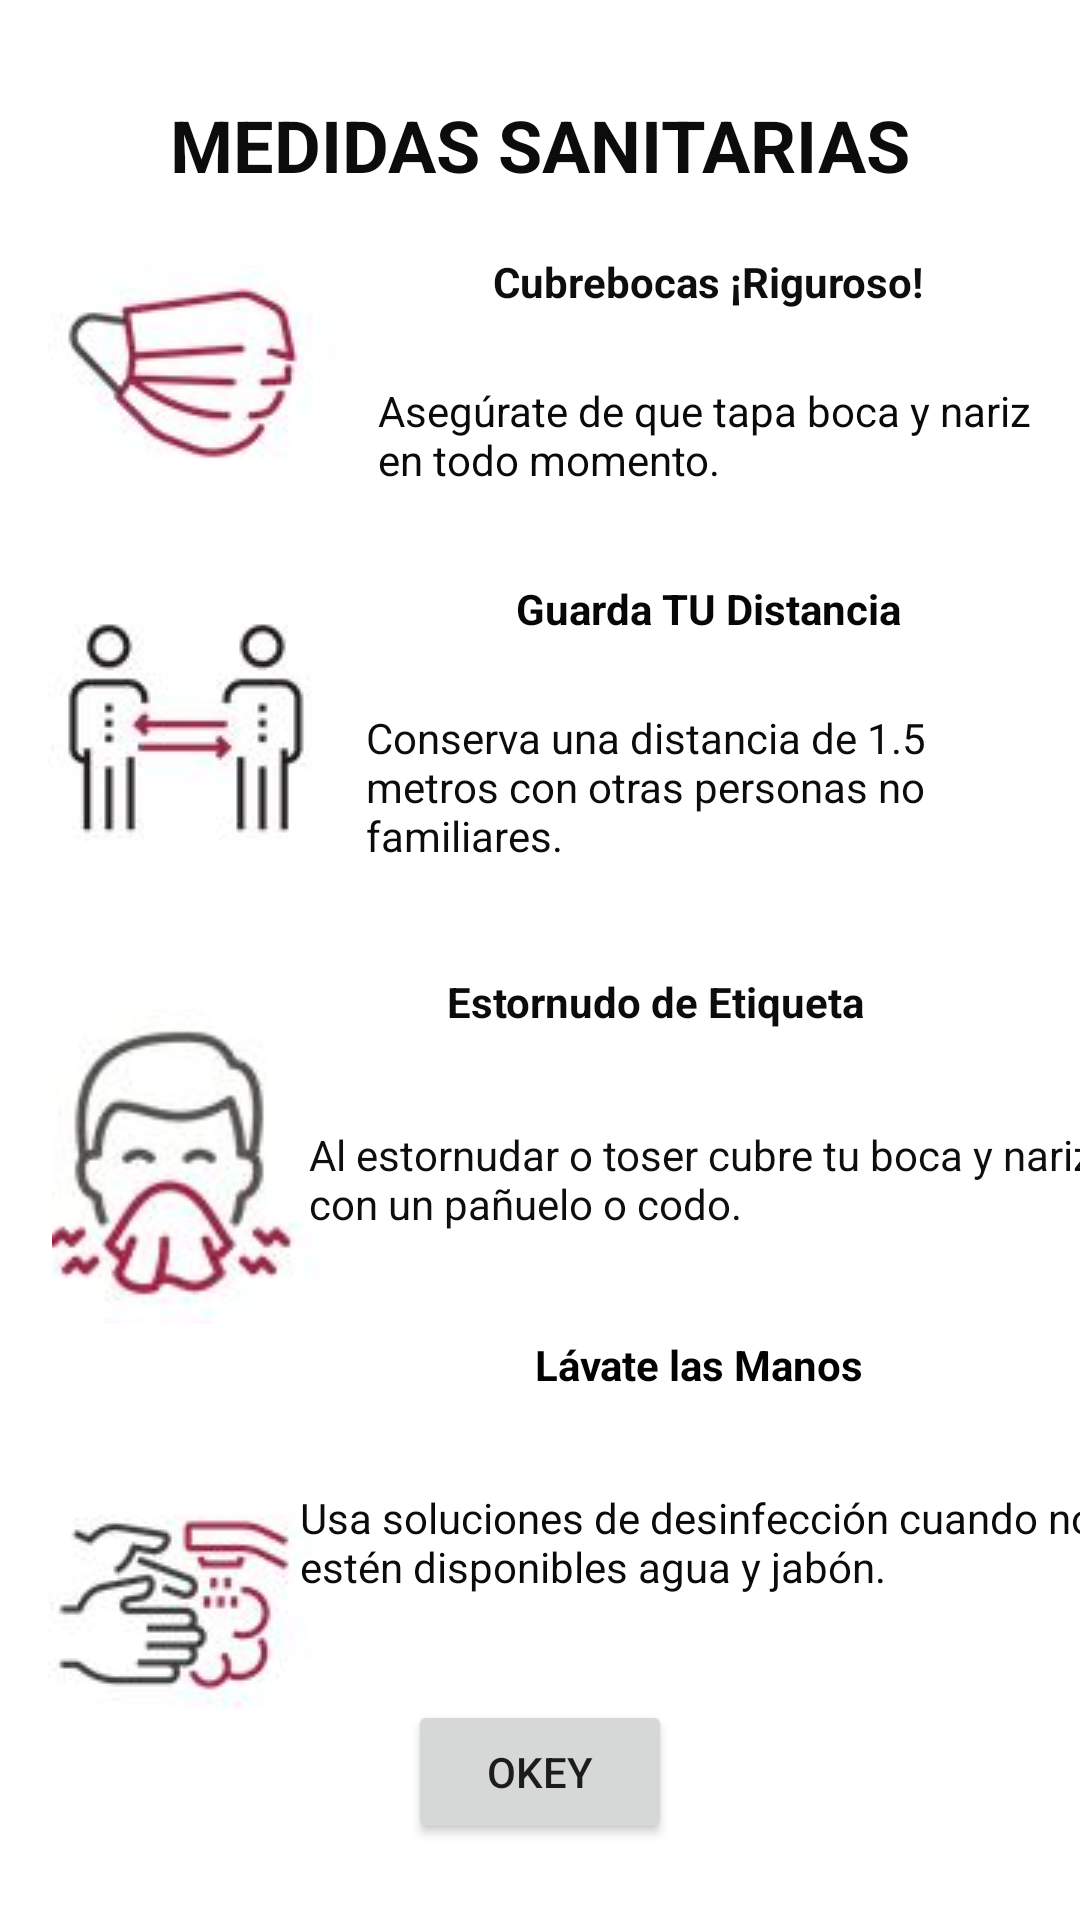

Screen size 1080px x 1920px. Icon name, then its center in pixels as point (x, y):
cubrebocas: point (183, 373)
guardatudis: point (186, 728)
lava: point (188, 1605)
